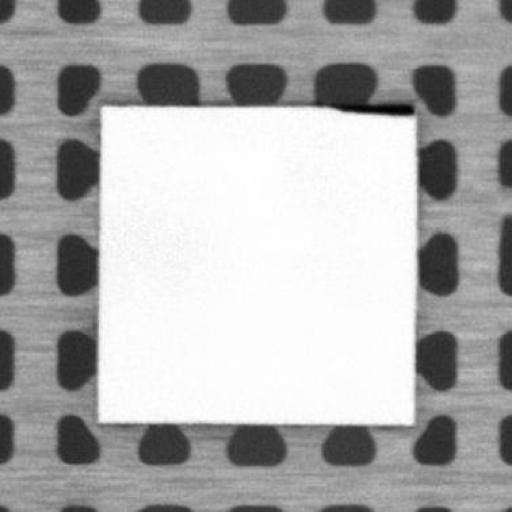DIE_BROKEN: (325, 99, 417, 116)
